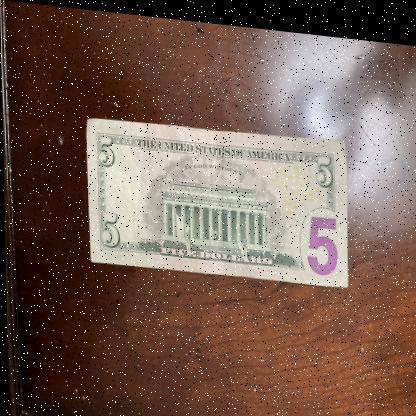five-back: (85, 108, 348, 284)
